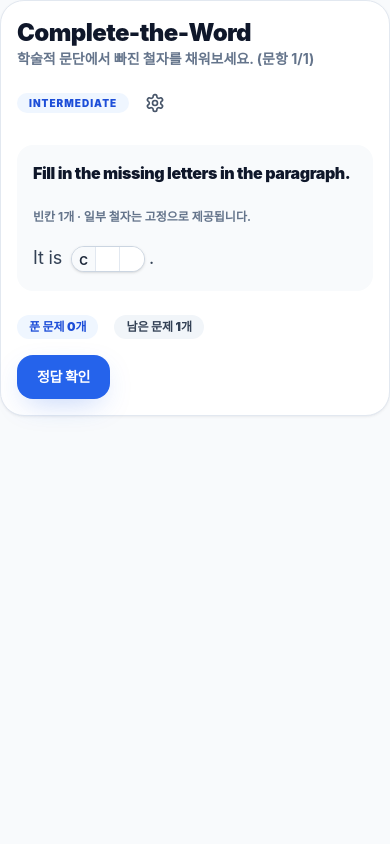
Test: ToeflCompleteTheWordQuiz save flow › saves an incorrect word to vocabulary via backend API
Expected: the heading "Complete-the-Word" is shown, [17, 18, 251, 47]
Type "x" into the field named "빈칸 1의 2번째 철자".
click(108, 259); type("x")  # box [96, 247, 120, 271]
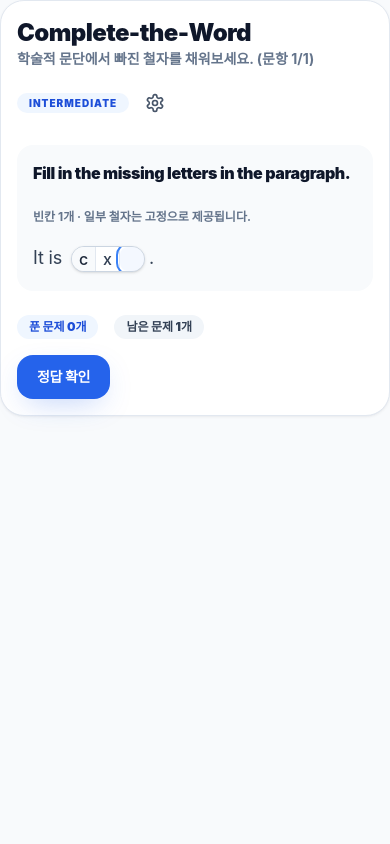
Type "y" into the field named "빈칸 1의 3번째 철자".
click(132, 259); type("y")  # box [120, 247, 144, 271]
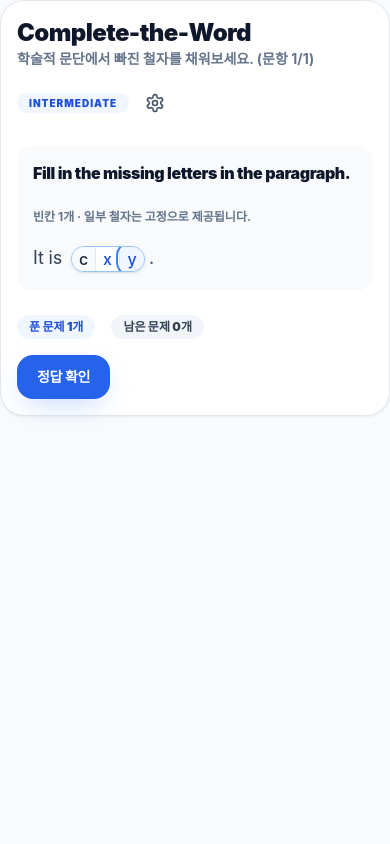
Click the button "정답 확인".
click(64, 377)  # box [17, 355, 110, 399]
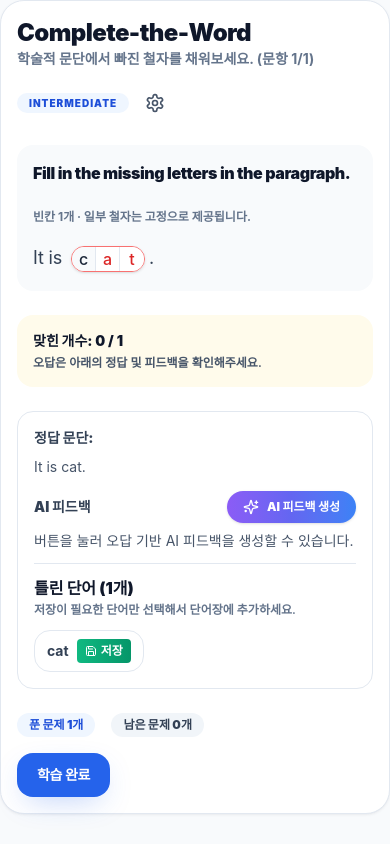
Expected: the text "틀린 단어 (1개)" is shown, [34, 578, 134, 598]
Click the button "저장".
click(104, 651)  # box [77, 639, 131, 663]
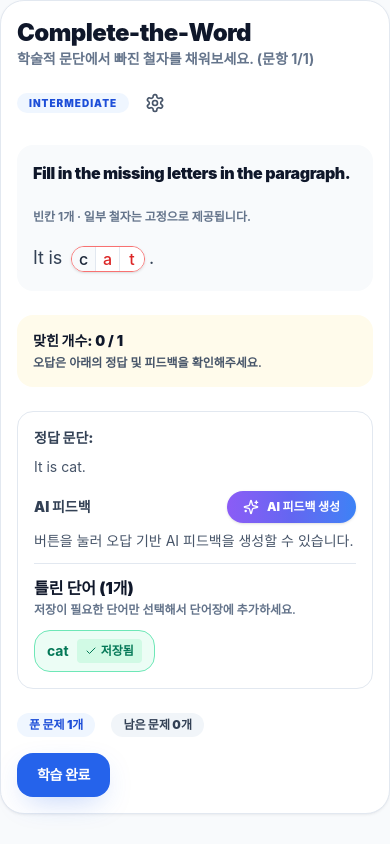
Expected: the text "저장됨" is shown, [101, 643, 134, 659]
